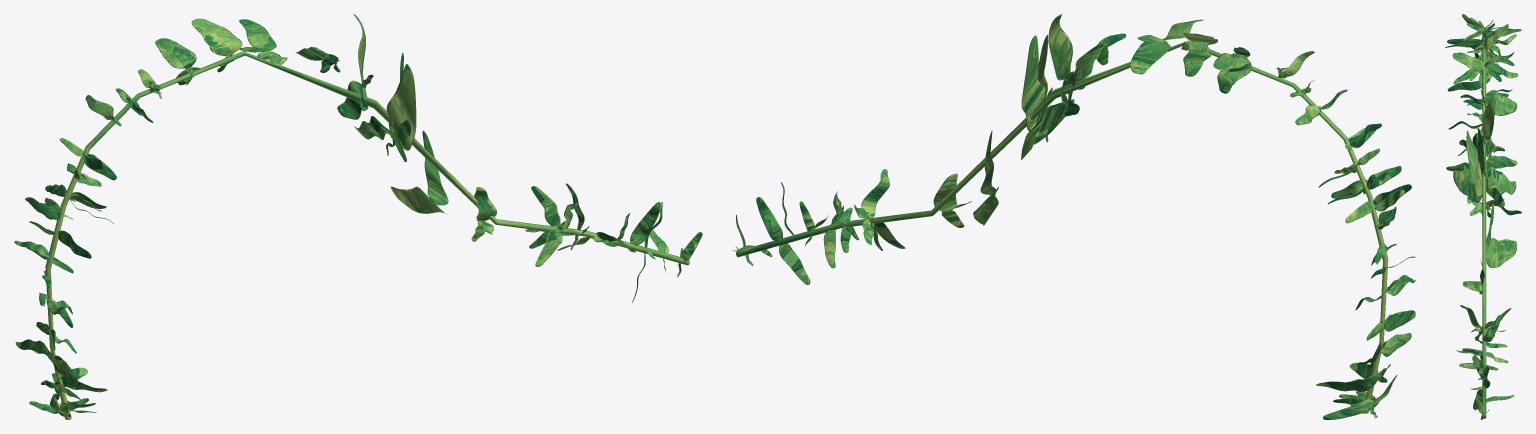
File: DeadSeaWeedPlant.fbx
The picture shows the model from 3 angles, left to right: view 1: azimuth 30°, elevation 25°; view 2: azimuth 150°, elevation 25°; view 3: azimuth 270°, elevation 25°; orthographic projection. The views are drawn at different scales.
Parts seen in each view (by area): view 1: Cylinder; view 2: Cylinder; view 3: Cylinder.
Part boxes in pixels (x1,y1,x2,y2): Cylinder: (14,14,702,419); Cylinder: (732,14,1416,419); Cylinder: (1445,14,1521,419).
Size of the model in its own units: 5085 by 2659 by 744.
